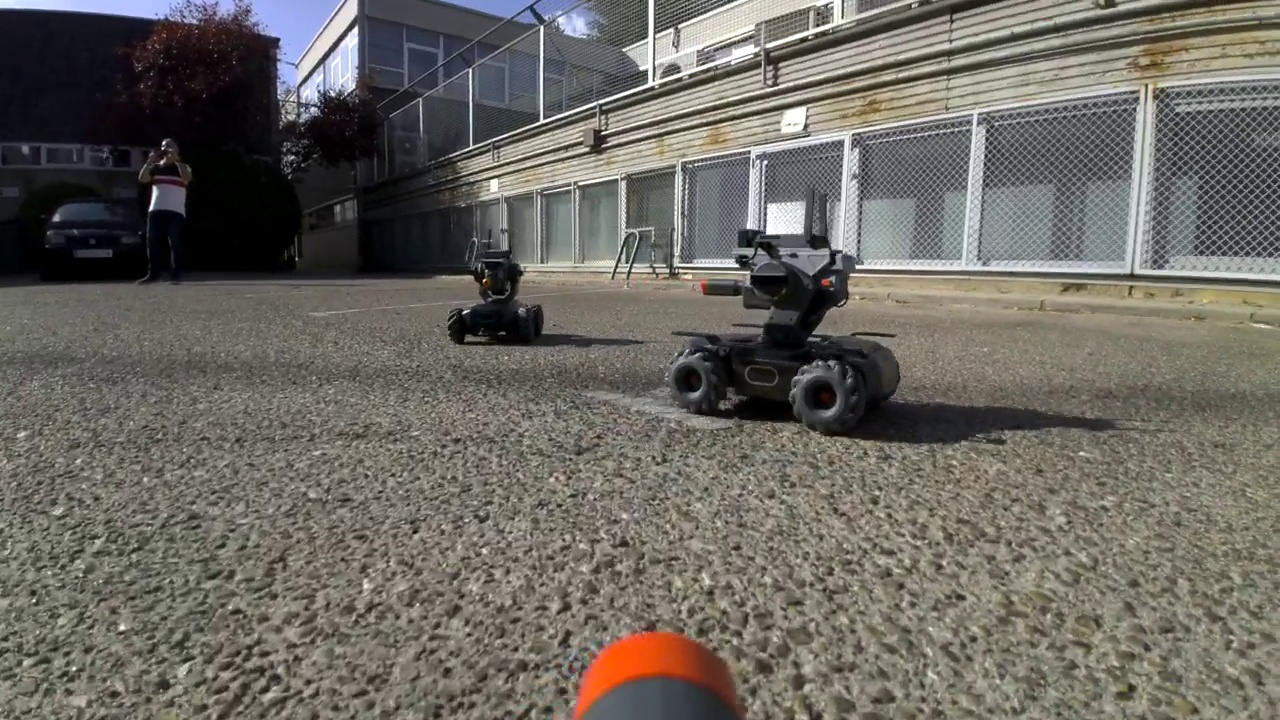robot: (669, 186, 899, 433), (450, 226, 552, 344)
